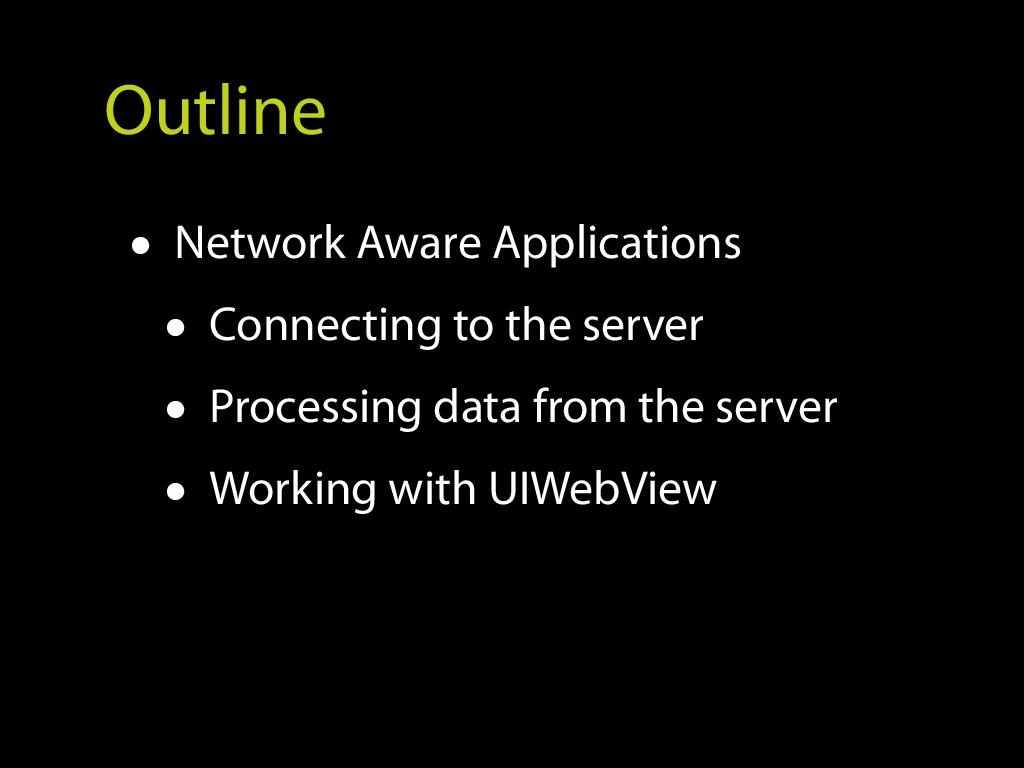paragraph: (118, 196, 889, 529)
title: (81, 72, 352, 154)
